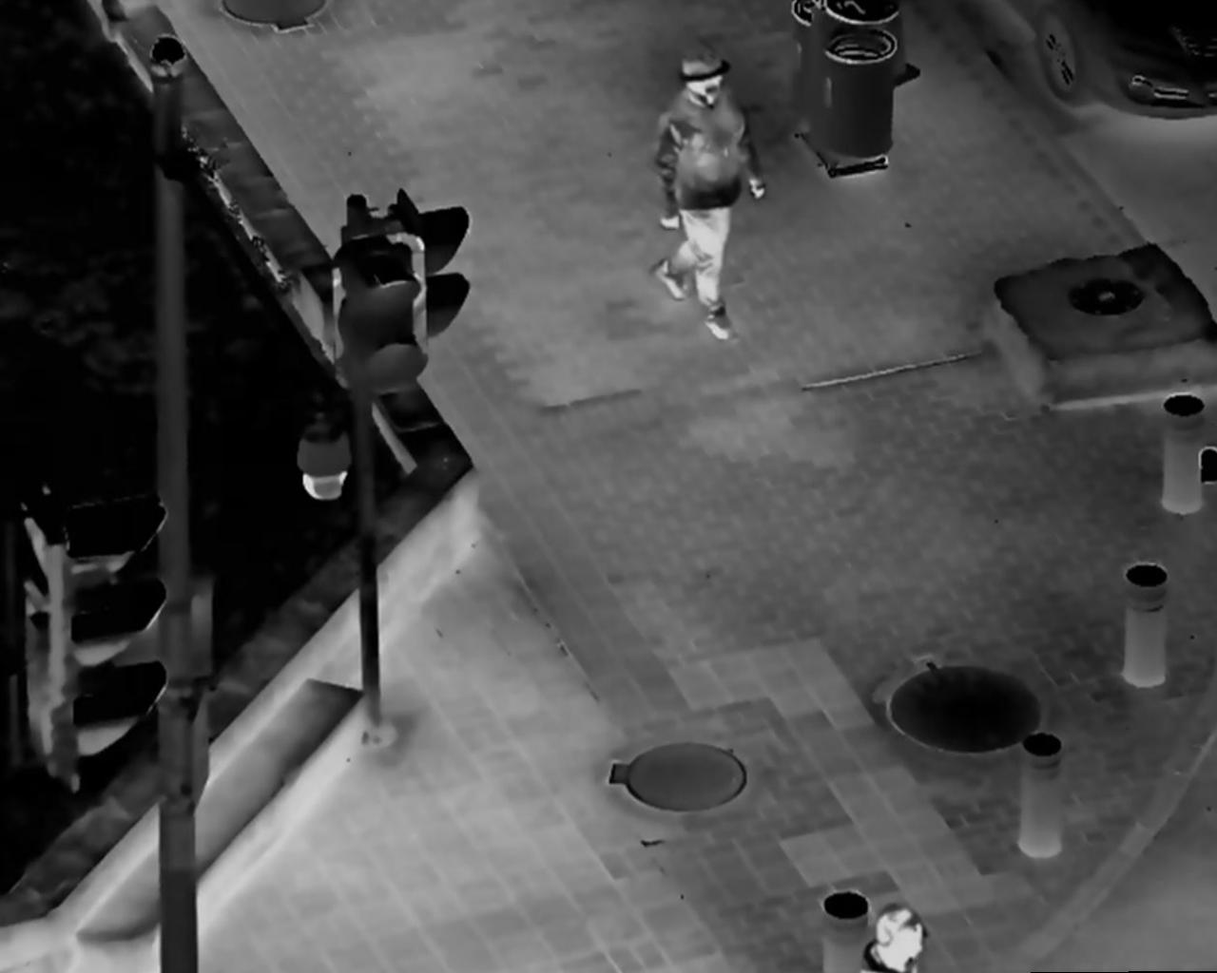person: (639, 43, 779, 371), (845, 892, 934, 973)
